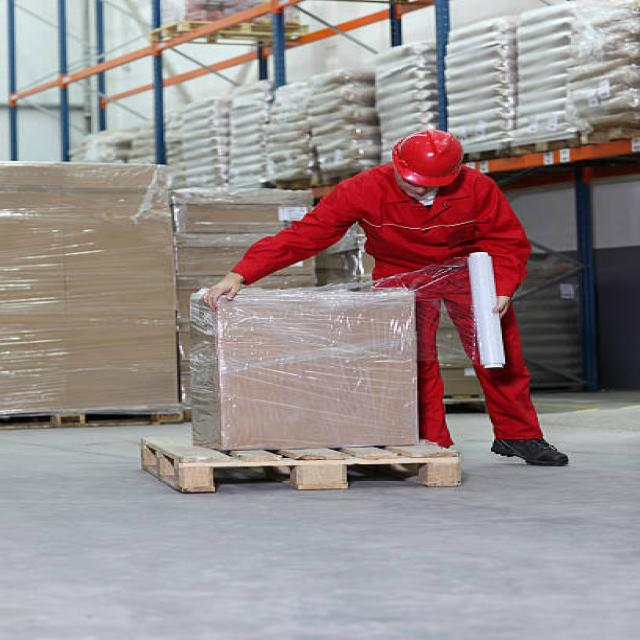Wooden-Pallets: (117, 430, 477, 497)
